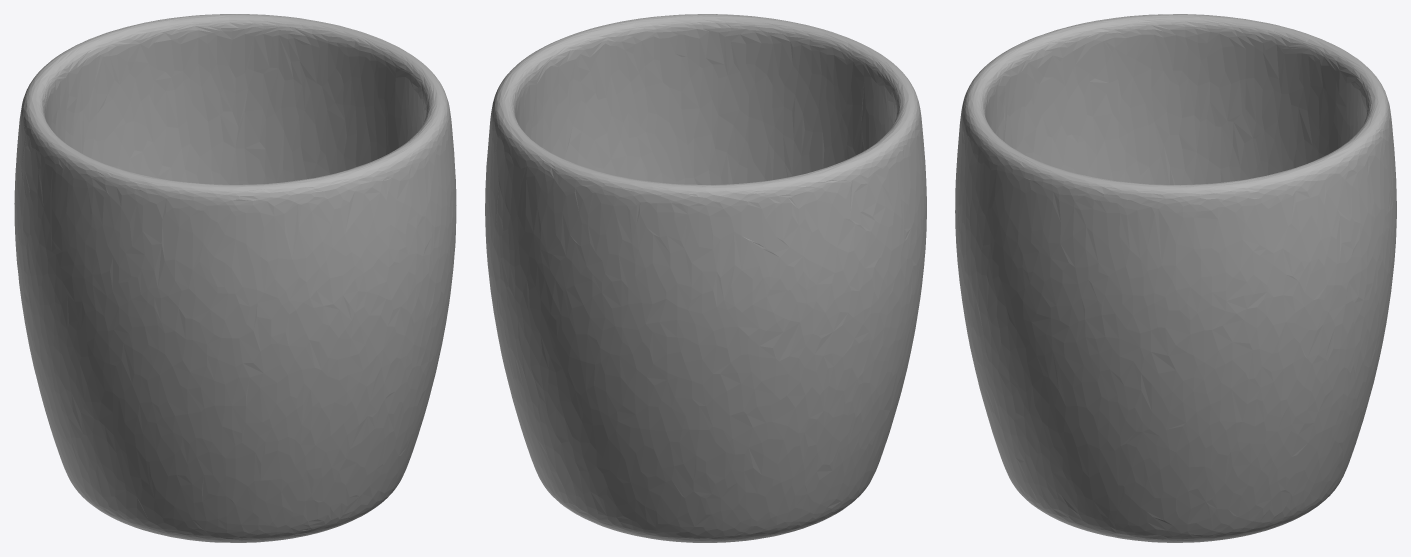
Rendered from Basket.glb.
3 renders of one model, left to right at view 1: azimuth 30°, elevation 25°; view 2: azimuth 150°, elevation 25°; view 3: azimuth 270°, elevation 25°, orthographic.
Parts seen in each view (by area): view 1: node_id5; view 2: node_id5; view 3: node_id5.
Part boxes in pixels (bbox=[...]): node_id5: bbox=[14, 14, 456, 542]; node_id5: bbox=[485, 14, 926, 542]; node_id5: bbox=[955, 14, 1396, 542].
Size of the model in its own units: 0.512 by 0.488 by 0.512.
Materials: 1 (1 with a texture image).
